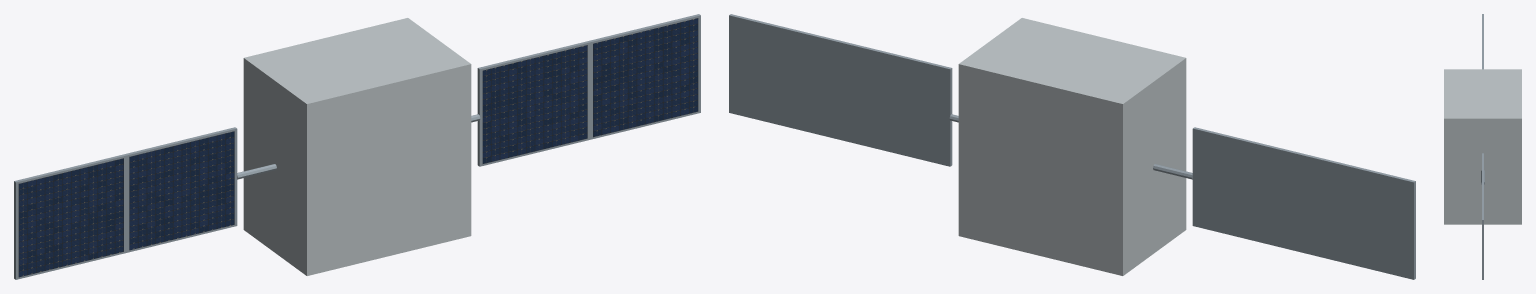
The model's file is ref-starburst-101136.glb.
3 renders of one model, left to right at view 1: azimuth 30°, elevation 25°; view 2: azimuth 150°, elevation 25°; view 3: azimuth 270°, elevation 25°, orthographic. The views are drawn at different scales.
Visible parts, largest first — view 1: Spacecraft body, Photovoltaic laminates (×4), Array frame (×4); view 2: Spacecraft body, Array frame (×4); view 3: Spacecraft body, Array frame (×3).
Part boxes in pixels (bbox=[...]): Spacecraft body: bbox=[243, 18, 471, 275]; Photovoltaic laminates (×4): bbox=[18, 18, 698, 277]; Array frame (×4): bbox=[14, 14, 700, 279]; Spacecraft body: bbox=[958, 18, 1186, 275]; Array frame (×4): bbox=[729, 14, 1415, 279]; Spacecraft body: bbox=[1444, 69, 1521, 224]; Array frame (×3): bbox=[1482, 14, 1483, 279].
Bounding box in the file's own units: 5 × 1.2 × 0.8.
Materials: 3 (1 with a texture image).
